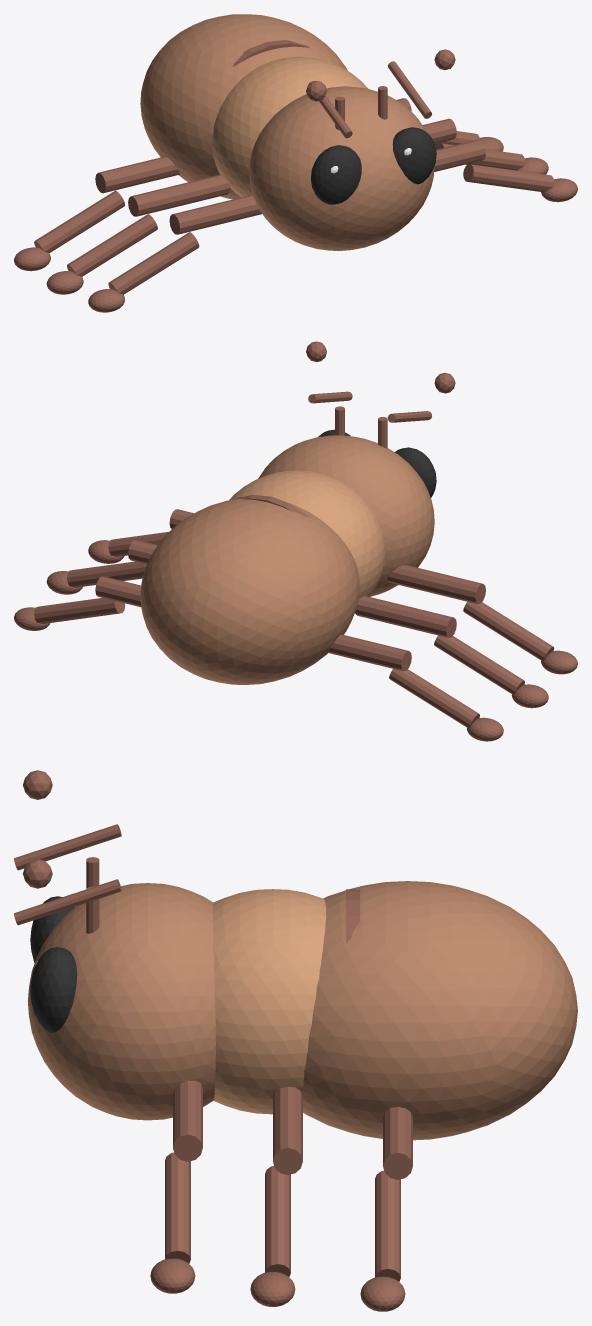
The model's file is base_ant_prefab_v1.glb.
3 renders of one model, top to bottom at view 1: azimuth 30°, elevation 25°; view 2: azimuth 150°, elevation 25°; view 3: azimuth 270°, elevation 25°, orthographic. The views are drawn at different scales.
Parts seen in each view (by area): view 1: head, abdomen, thorax, leg_mid_left, leg_front_left, leg_back_left, leg_front_right, left_eye, right_eye, leg_mid_right, leg_back_right, right_antenna_curve (+2 smaller); view 2: abdomen, head, thorax, leg_mid_left, leg_front_left, leg_back_left, leg_back_right, leg_mid_right, leg_front_right, left_eye; view 3: abdomen, head, thorax, leg_mid_right, leg_front_right, leg_back_right, right_eye, right_antenna_curve, left_antenna_curve, left_eye, left_antenna_tip, right_antenna_tip.
Boxes of the visible parts, <box> form: head: <box>249,86,434,250</box>; abdomen: <box>140,14,347,199</box>; thorax: <box>212,56,368,197</box>; leg_mid_left: <box>46,174,230,294</box>; leg_front_left: <box>88,194,261,312</box>; leg_back_left: <box>14,156,179,271</box>; leg_front_right: <box>434,139,577,202</box>; left_eye: <box>311,145,361,204</box>; right_eye: <box>392,127,436,184</box>; leg_mid_right: <box>422,118,548,174</box>; leg_back_right: <box>396,98,503,151</box>; right_antenna_curve: <box>387,61,431,118</box>; abdomen: <box>140,499,359,684</box>; head: <box>258,435,434,596</box>; thorax: <box>229,470,385,599</box>; leg_mid_left: <box>355,596,548,708</box>; leg_front_left: <box>387,565,577,674</box>; leg_back_left: <box>328,634,503,741</box>; leg_back_right: <box>14,576,141,630</box>; leg_mid_right: <box>46,540,157,594</box>; leg_front_right: <box>88,509,193,563</box>; left_eye: <box>395,447,436,497</box>; abdomen: <box>302,881,577,1140</box>; head: <box>27,883,215,1120</box>; thorax: <box>213,889,326,1114</box>; leg_mid_right: <box>250,1086,302,1306</box>; leg_front_right: <box>150,1080,202,1293</box>; leg_back_right: <box>360,1106,412,1311</box>; right_eye: <box>30,947,77,1032</box>; right_antenna_curve: <box>14,879,121,925</box>; left_antenna_curve: <box>14,824,121,870</box>; left_eye: <box>30,896,74,962</box>; left_antenna_tip: <box>23,770,52,799</box>; right_antenna_tip: <box>23,859,52,888</box>.
Bounding box in the file's own units: 1.63 × 0.74 × 1.13.
